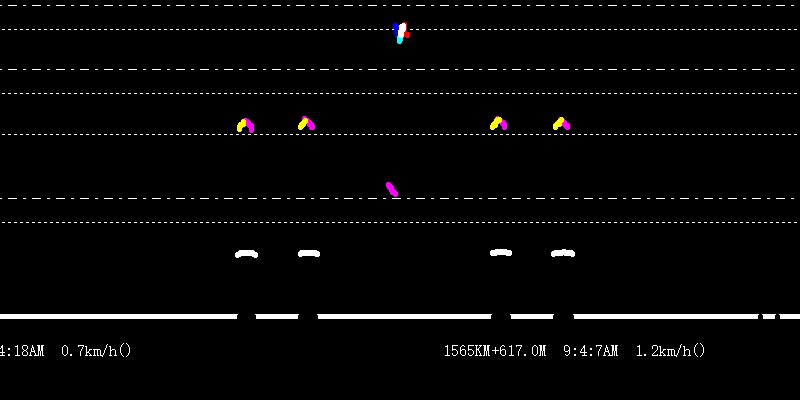L: (229, 110, 580, 259)
face_s: (396, 21, 405, 46)
